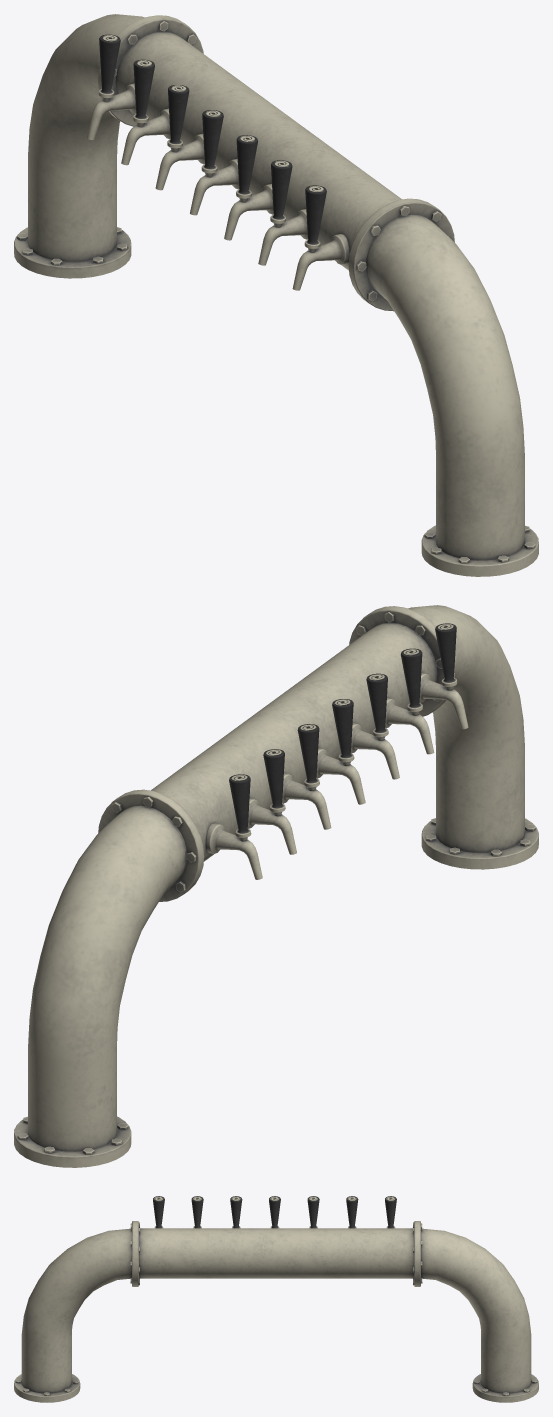
File: SM_BeerTapS.fbx
The picture shows the model from 3 angles, top to bottom: view 1: azimuth 30°, elevation 25°; view 2: azimuth 150°, elevation 25°; view 3: azimuth 270°, elevation 25°; orthographic projection. The views are drawn at different scales.
Parts seen in each view (by area): view 1: SM_BeerTapS_LOD0; view 2: SM_BeerTapS_LOD0; view 3: SM_BeerTapS_LOD0.
Boxes of the visible parts, x1=… form: SM_BeerTapS_LOD0: x1=14, y1=14, x2=538, y2=576; SM_BeerTapS_LOD0: x1=14, y1=605, x2=538, y2=1167; SM_BeerTapS_LOD0: x1=14, y1=1196, x2=538, y2=1402.
Size of the model in its own units: 26.23 by 153 by 55.69.
Materials: 1 (1 with a texture image).
